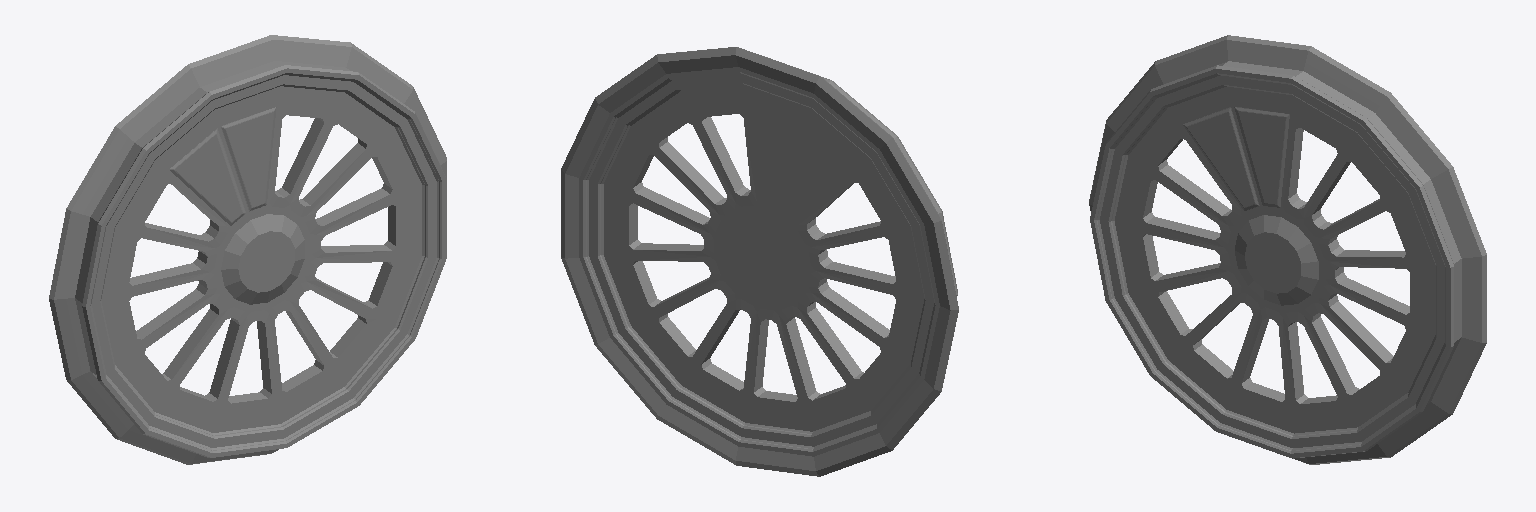
The model's file is right_front_big_wheel.obj.
3 renders of one model, left to right at view 1: azimuth 30°, elevation 25°; view 2: azimuth 150°, elevation 25°; view 3: azimuth 330°, elevation 25°, orthographic.
Visible parts, largest first — view 1: right_front_big_wheel; view 2: right_front_big_wheel; view 3: right_front_big_wheel.
Boxes of the visible parts, <box> form: right_front_big_wheel: <box>49,35,446,464</box>; right_front_big_wheel: <box>561,47,958,476</box>; right_front_big_wheel: <box>1089,35,1486,464</box>.
Bounding box in the file's own units: 17.91 × 18.01 × 1.57.